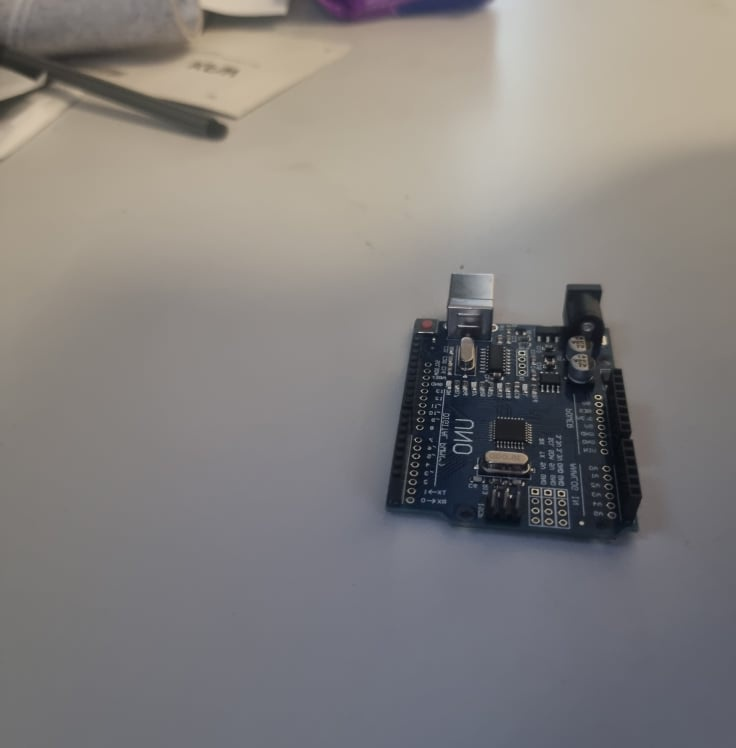UNO R3: (382, 269, 642, 540)
